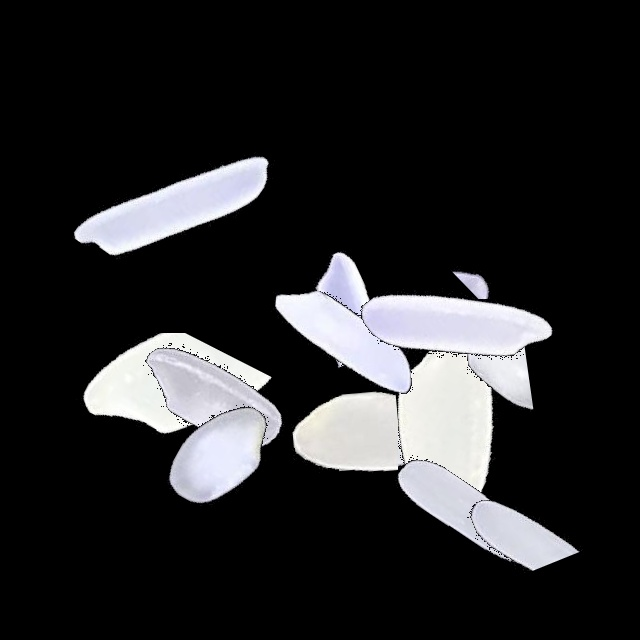Broken: (41, 333, 291, 488), (387, 420, 637, 573), (256, 310, 398, 560), (265, 166, 405, 416), (334, 294, 584, 428), (371, 214, 621, 299), (207, 328, 285, 578)
Full: (50, 78, 300, 328), (297, 307, 547, 557), (325, 295, 575, 545), (339, 382, 589, 632), (219, 217, 469, 467), (90, 270, 340, 520), (97, 328, 347, 578), (330, 195, 580, 445)
